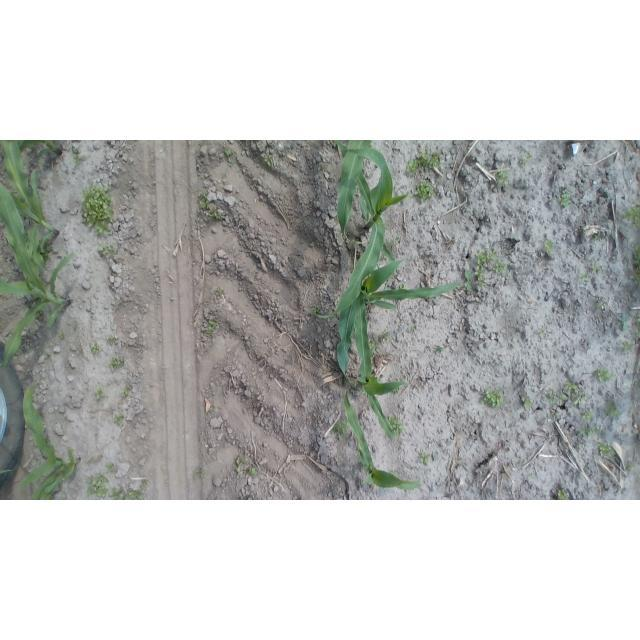Maize: (320, 234, 457, 388), (0, 165, 74, 370), (332, 140, 410, 290), (339, 295, 406, 448), (340, 378, 420, 492), (14, 382, 82, 497), (7, 146, 62, 283)
Weeds: (81, 183, 115, 237), (407, 148, 442, 172), (198, 192, 225, 221), (475, 249, 493, 287), (85, 474, 109, 499), (459, 270, 483, 293), (235, 454, 258, 477), (481, 387, 504, 408), (109, 485, 143, 499), (413, 181, 435, 202), (623, 202, 639, 227), (332, 419, 348, 441), (594, 367, 615, 383), (602, 400, 619, 419), (597, 441, 616, 458), (546, 390, 566, 406), (388, 416, 404, 436), (579, 423, 602, 435), (493, 170, 510, 186), (109, 354, 126, 370), (242, 461, 259, 476), (234, 454, 246, 475), (205, 318, 220, 334), (563, 380, 580, 394), (558, 189, 571, 207), (40, 240, 51, 261), (619, 314, 631, 333), (97, 244, 116, 256), (494, 261, 507, 276), (223, 149, 235, 165), (619, 341, 635, 353), (521, 397, 535, 410), (262, 153, 275, 167), (543, 238, 554, 254), (73, 148, 83, 165), (370, 340, 381, 355), (105, 462, 118, 474), (519, 154, 531, 167), (95, 387, 106, 401), (631, 245, 638, 267), (121, 385, 131, 400), (114, 413, 126, 425), (192, 467, 205, 478), (582, 408, 593, 420), (389, 235, 400, 247), (420, 451, 431, 463), (572, 395, 586, 404), (627, 459, 637, 471), (381, 330, 391, 342), (556, 490, 569, 499), (214, 286, 224, 297), (90, 342, 100, 353), (593, 303, 605, 312), (632, 268, 638, 286), (579, 272, 589, 282), (591, 263, 601, 273), (310, 305, 319, 316), (435, 344, 446, 353), (107, 336, 118, 345), (594, 233, 603, 242), (139, 479, 147, 489), (395, 284, 406, 291), (538, 328, 546, 337), (320, 163, 328, 172), (58, 332, 66, 341), (251, 272, 258, 281), (410, 325, 418, 332), (526, 473, 534, 479)
